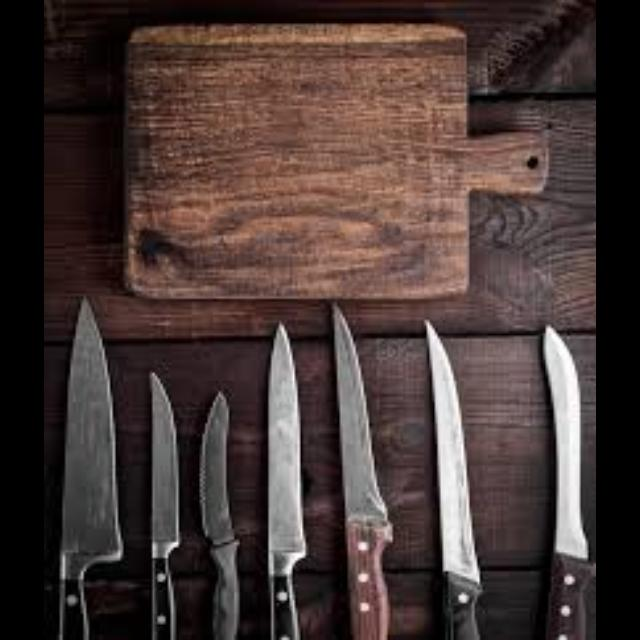Knife: (53, 294, 124, 636), (330, 302, 392, 636), (423, 317, 483, 637), (541, 323, 591, 637), (266, 320, 306, 638), (198, 389, 240, 637), (148, 370, 178, 638)
